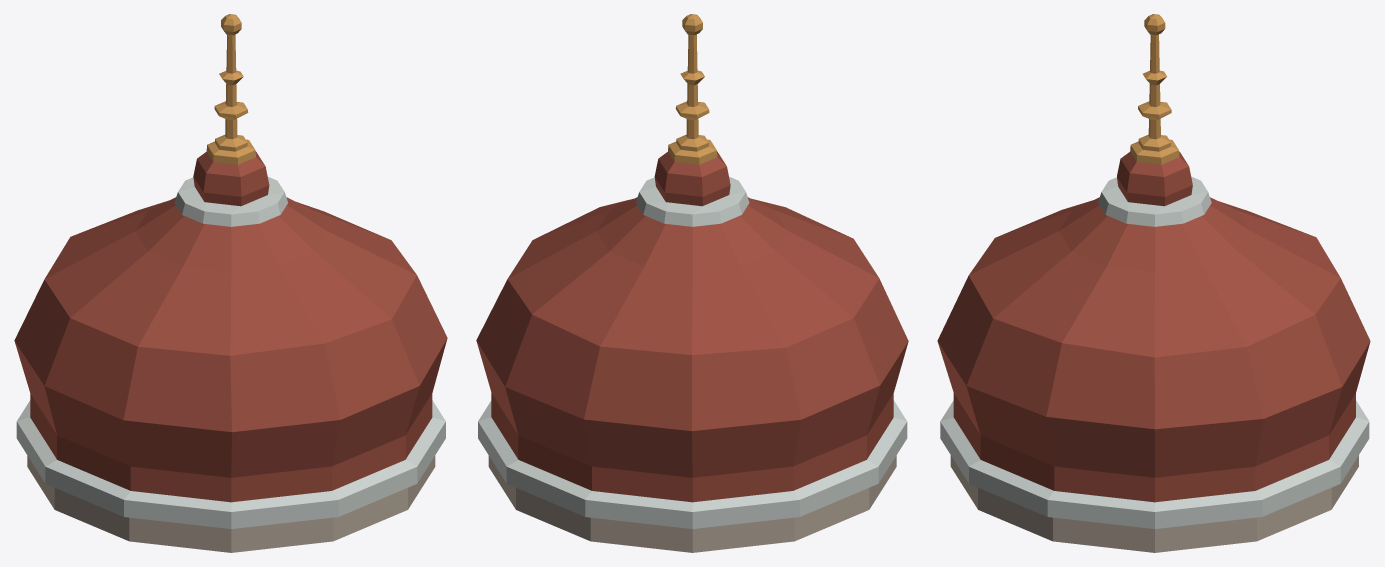
The model's file is SM_Bld_Roof_Cap_01.glb.
3 views of the same model, side by side, from view 1: azimuth 30°, elevation 25°; view 2: azimuth 150°, elevation 25°; view 3: azimuth 270°, elevation 25° (orthographic).
Visible parts, largest first — view 1: SM_Bld_Roof_Cap_01; view 2: SM_Bld_Roof_Cap_01; view 3: SM_Bld_Roof_Cap_01.
Part boxes in pixels (box(x1,y1,x2,y2)): SM_Bld_Roof_Cap_01: box(14, 14, 447, 552); SM_Bld_Roof_Cap_01: box(476, 14, 908, 552); SM_Bld_Roof_Cap_01: box(937, 14, 1370, 552).
Size of the model in its own units: 6.06 by 6.98 by 6.06.
2 materials, 2 textured.
